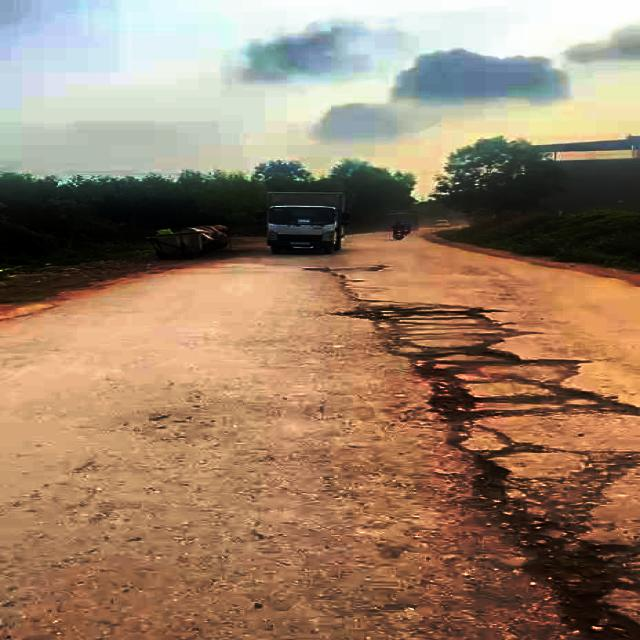pothole: (462, 449, 640, 640), (403, 343, 480, 445), (335, 300, 494, 323)
